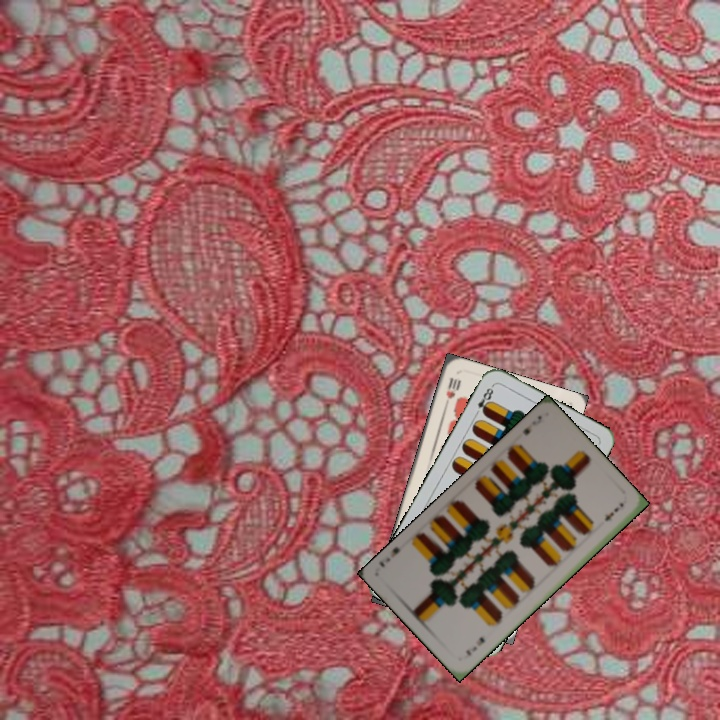E7: (519, 411, 544, 438), (462, 633, 487, 659)
E8: (471, 381, 496, 418)
H10: (442, 374, 462, 401)
